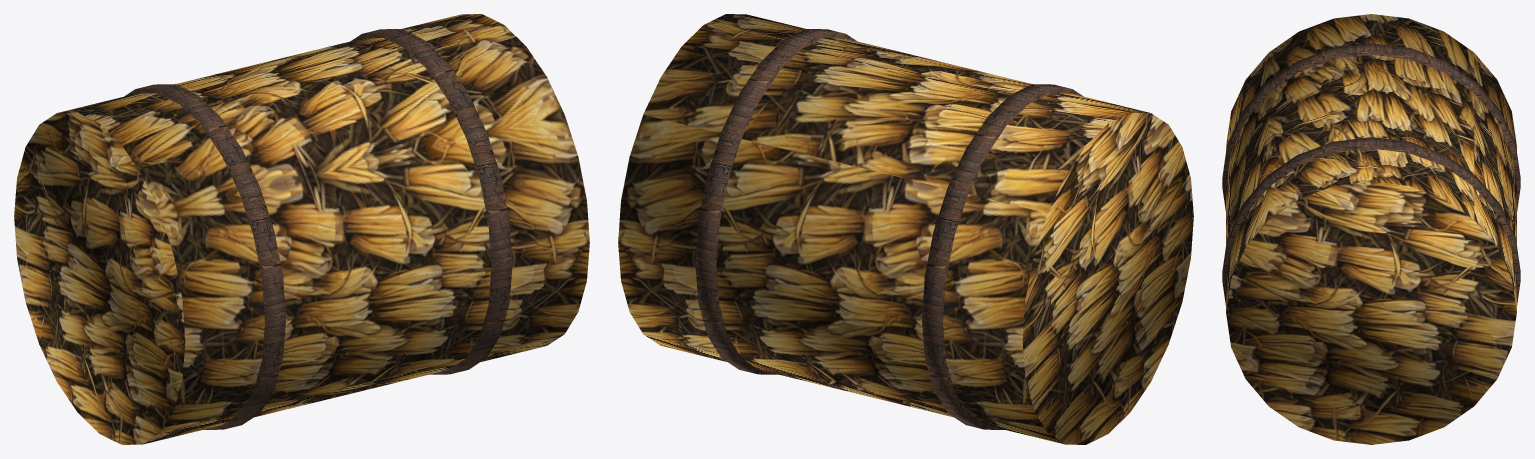
File: prop_haybale.glb
3 views of the same model, side by side, from view 1: azimuth 30°, elevation 25°; view 2: azimuth 150°, elevation 25°; view 3: azimuth 270°, elevation 25° (orthographic). The views are drawn at different scales.
Parts seen in each view (by area): view 1: bale, strap, strap.001; view 2: bale, strap, strap.001; view 3: bale, strap.001, strap.
Part boxes in pixels (x1,y1,x2,y2): bale: (14,14,589,444); strap: (124,84,285,429); strap.001: (351,29,512,374); bale: (618,14,1193,444); strap: (922,84,1083,429); strap.001: (695,29,856,374); bale: (1226,14,1516,444); strap.001: (1222,137,1520,304); strap: (1222,43,1520,211).
Size of the model in its own units: 1.5 by 1.13 by 1.13.
2 materials, 2 textured.
